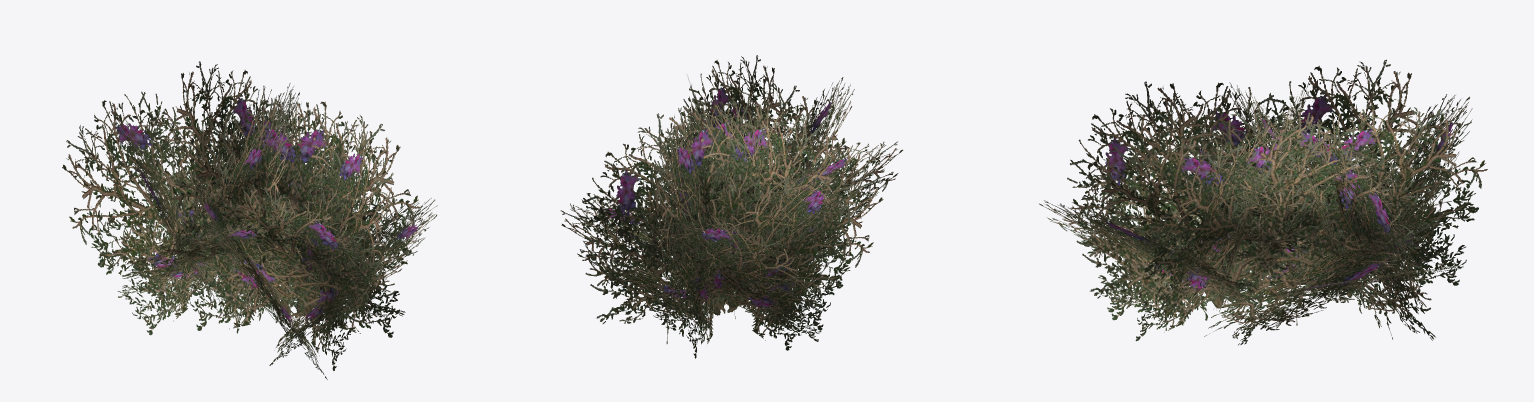
Rendered from shrb_flowerbush_sm_l0.fbx.
3 renders of one model, left to right at view 1: azimuth 30°, elevation 25°; view 2: azimuth 150°, elevation 25°; view 3: azimuth 270°, elevation 25°, orthographic. The views are drawn at different scales.
Visible parts, largest first — view 1: mesh_node; view 2: mesh_node; view 3: mesh_node.
Part boxes in pixels (left/top/right/bottom): mesh_node: left=62, top=61, right=437, bottom=379; mesh_node: left=560, top=55, right=903, bottom=358; mesh_node: left=1039, top=59, right=1487, bottom=345.
Bounding box in the file's own units: 1.53 × 1.29 × 1.9.
Materials: 1 (1 with a texture image).
